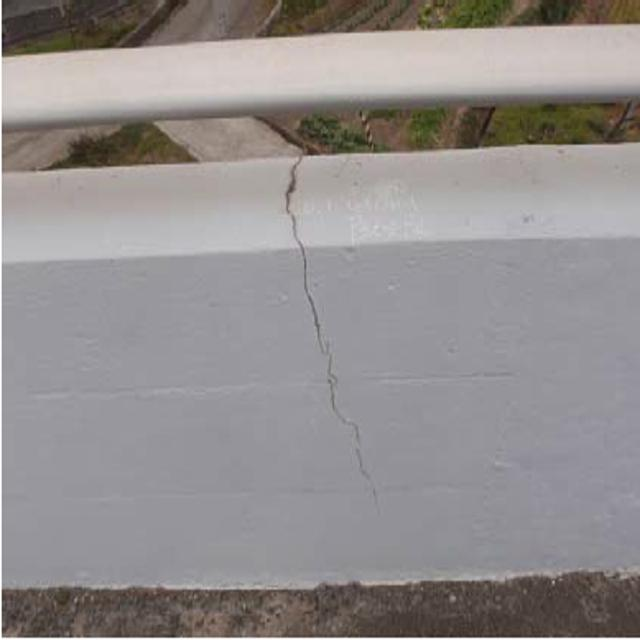crack: (273, 159, 387, 494)
